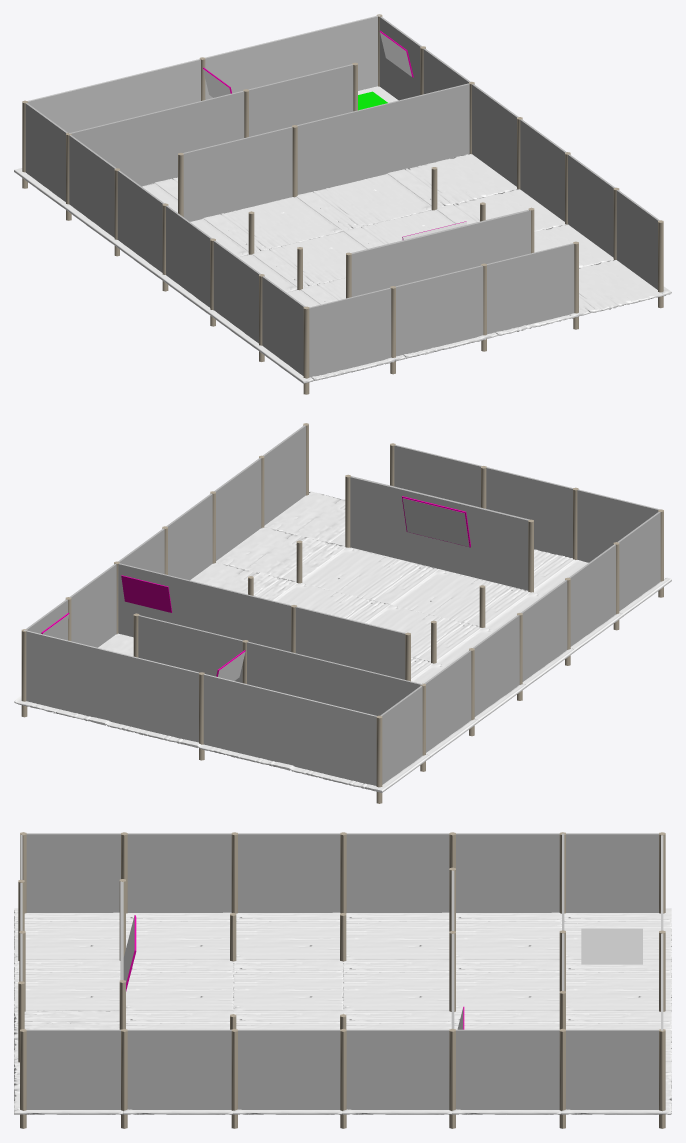
The model's file is Sala_Bienvenida_OLD.glb.
3 views of the same model, one above another, from view 1: azimuth 30°, elevation 25°; view 2: azimuth 150°, elevation 25°; view 3: azimuth 270°, elevation 25° (orthographic). The views are drawn at different scales.
Visible parts, largest first — view 1: prim9, prim11, prim12, prim6, prim8, prim10, prim13, prim57, prim56, prim58, prim53, prim7 (+11 smaller); view 2: prim8, prim11, prim6, prim9, prim12, prim10, prim13, prim49, prim48, prim50, prim53, prim7 (+13 smaller); view 3: prim6, prim11, prim53, prim56, prim48, prim61, prim45, prim62, prim54, prim55, prim65, prim46 (+28 smaller).
Boxes of the visible parts, <box> form: prim9: <box>183,83,469,221</box>; prim11: <box>25,103,305,375</box>; prim12: <box>309,243,574,377</box>; prim6: <box>379,16,659,289</box>; prim8: <box>27,15,380,132</box>; prim10: <box>68,64,353,186</box>; prim13: <box>351,209,530,296</box>; prim57: <box>296,173,431,230</box>; prim56: <box>203,197,342,251</box>; prim58: <box>387,154,517,207</box>; prim53: <box>252,231,366,287</box>; prim7: <box>578,260,671,316</box>; prim8: <box>24,630,376,785</box>; prim11: <box>380,512,660,784</box>; prim6: <box>26,425,305,647</box>; prim9: <box>118,563,405,679</box>; prim12: <box>394,445,660,562</box>; prim10: <box>138,615,422,715</box>; prim13: <box>350,476,529,590</box>; prim49: <box>302,547,438,604</box>; prim48: <box>391,569,529,626</box>; prim50: <box>216,527,345,581</box>; prim53: <box>366,604,481,661</box>; prim7: <box>264,491,345,546</box>; prim6: <box>26,1029,658,1109</box>; prim11: <box>26,833,658,912</box>; prim53: <box>233,959,343,1010</box>; prim56: <box>343,959,449,1010</box>; prim48: <box>126,959,233,1010</box>; prim61: <box>456,959,559,1010</box>; prim45: <box>14,959,120,1011</box>; prim62: <box>456,912,561,959</box>; prim54: <box>236,912,340,959</box>; prim55: <box>346,912,449,959</box>; prim65: <box>566,959,671,1011</box>; prim46: <box>14,908,119,960</box>.
Size of the model in its own units: 34.24 by 7.69 by 46.59.
